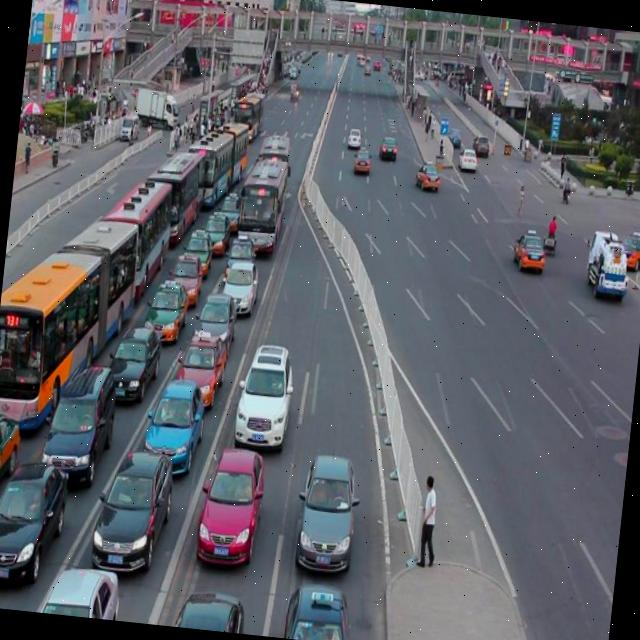bus: (578, 226, 630, 298)
car: (91, 436, 176, 564), (40, 350, 119, 472), (0, 449, 70, 571), (293, 444, 363, 561), (196, 438, 267, 550), (232, 333, 296, 439), (24, 551, 121, 620), (144, 368, 206, 461), (276, 574, 358, 640), (159, 580, 248, 634), (106, 310, 162, 392), (173, 322, 227, 398), (192, 283, 239, 348), (144, 271, 191, 333), (0, 402, 20, 508), (222, 250, 260, 304), (167, 240, 204, 294), (508, 226, 546, 272), (180, 220, 214, 268), (224, 222, 255, 272), (214, 180, 246, 222), (200, 200, 230, 243), (615, 229, 640, 272), (412, 160, 442, 192), (352, 144, 372, 174), (469, 132, 489, 158), (456, 144, 476, 170), (378, 136, 396, 160), (444, 126, 460, 148), (346, 126, 362, 148)
van: (0, 202, 141, 429), (92, 163, 175, 292), (184, 104, 250, 196), (234, 150, 288, 253), (148, 136, 203, 234), (254, 132, 294, 194)
